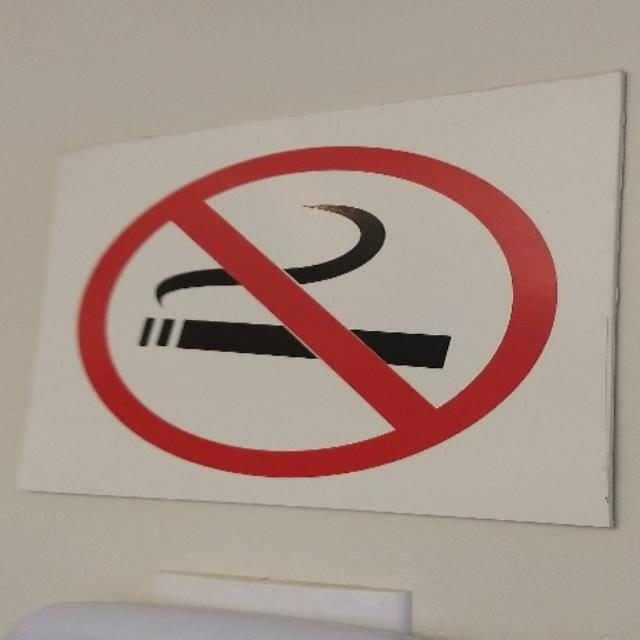cam hut thuoc: (79, 146, 556, 476)
